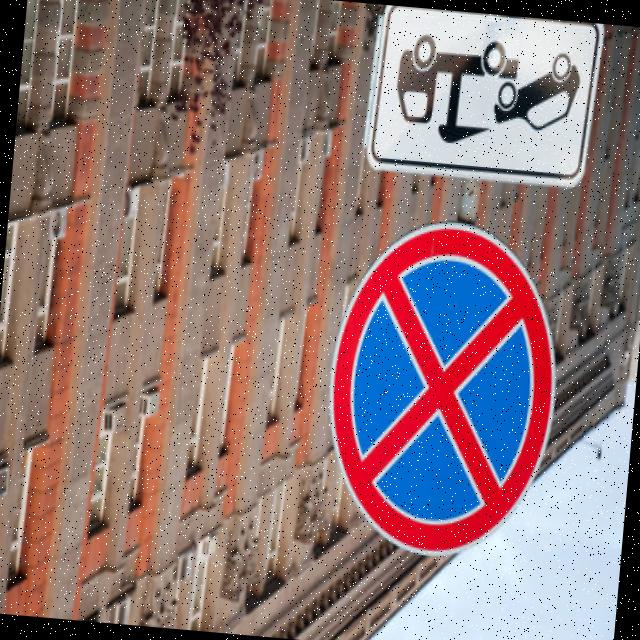no_parking: (304, 198, 574, 574)
